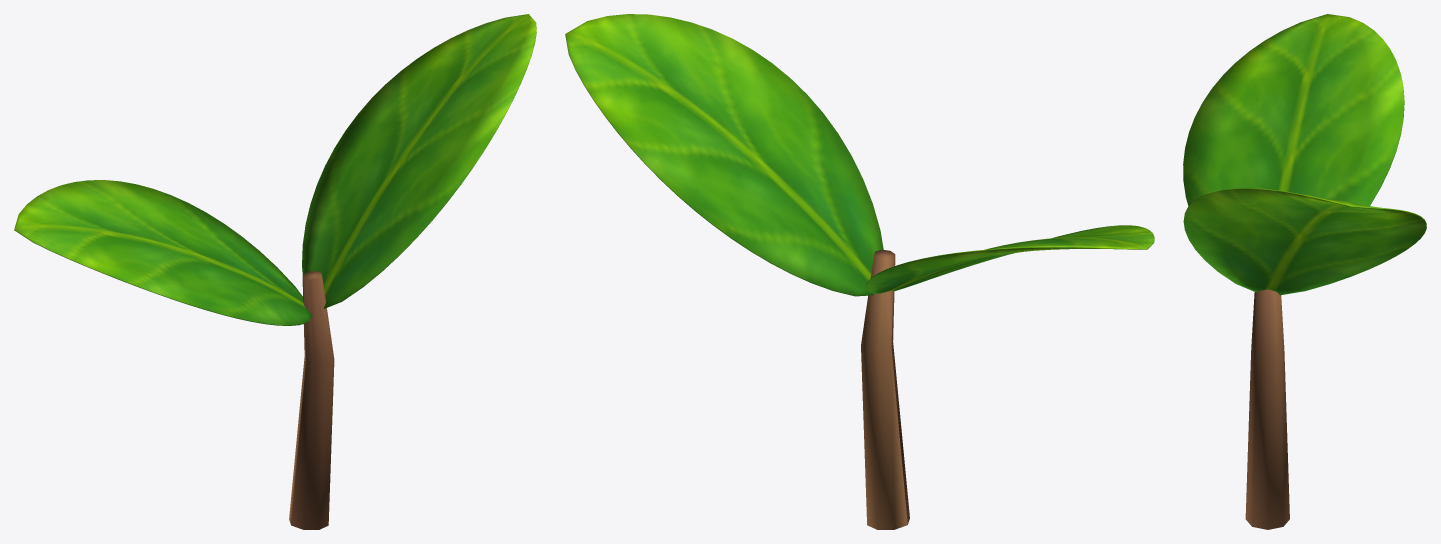
File: NP_Blueberry_Sprout.fbx
3 views of the same model, side by side, from view 1: azimuth 30°, elevation 25°; view 2: azimuth 150°, elevation 25°; view 3: azimuth 270°, elevation 25° (orthographic). The views are drawn at different scales.
Visible parts, largest first — view 1: NP_Blueberry_Sprout; view 2: NP_Blueberry_Sprout; view 3: NP_Blueberry_Sprout.
Part boxes in pixels (x1,y1,x2,y2): NP_Blueberry_Sprout: (14, 14, 536, 529); NP_Blueberry_Sprout: (565, 14, 1154, 529); NP_Blueberry_Sprout: (1183, 14, 1426, 529).
Size of the model in its own units: 29.58 by 22.61 by 10.98.
1 material, 1 textured.
